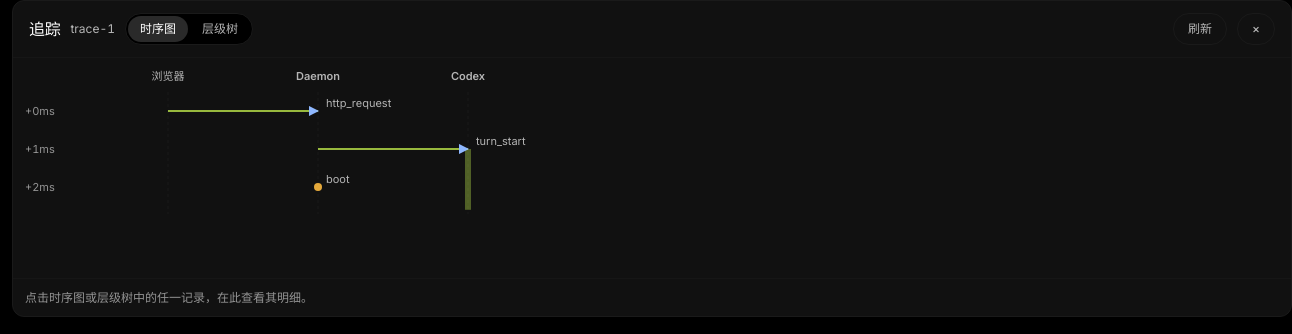
Test: TraceView 追踪内部视图 › 层级树里点一行也能显示明细
Click the button "层级树". click: click(220, 29)
box: [190, 16, 250, 42]
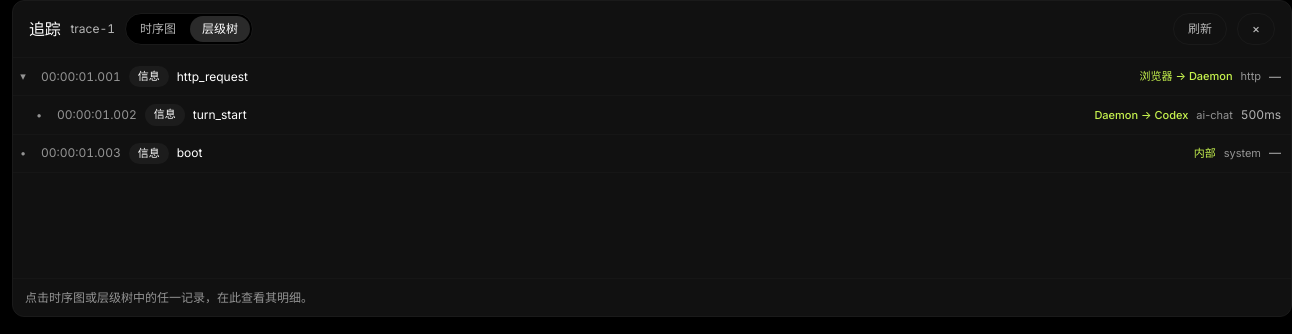
Click the text "turn_start". click: click(220, 115)
box: [193, 107, 247, 122]
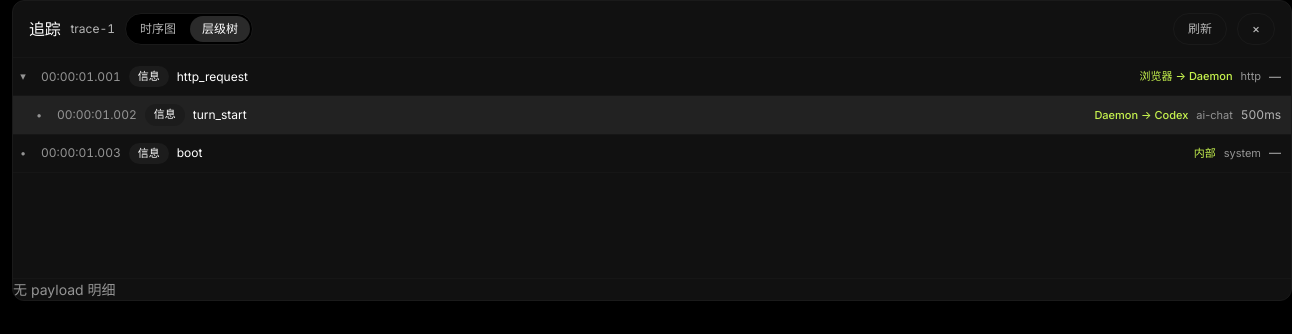
Check: the text "点击时序图或层级树中的任一记录，在此查看其明细。" is gone
Check: the text "无 payload 明细" is shown, box [13, 281, 116, 298]
